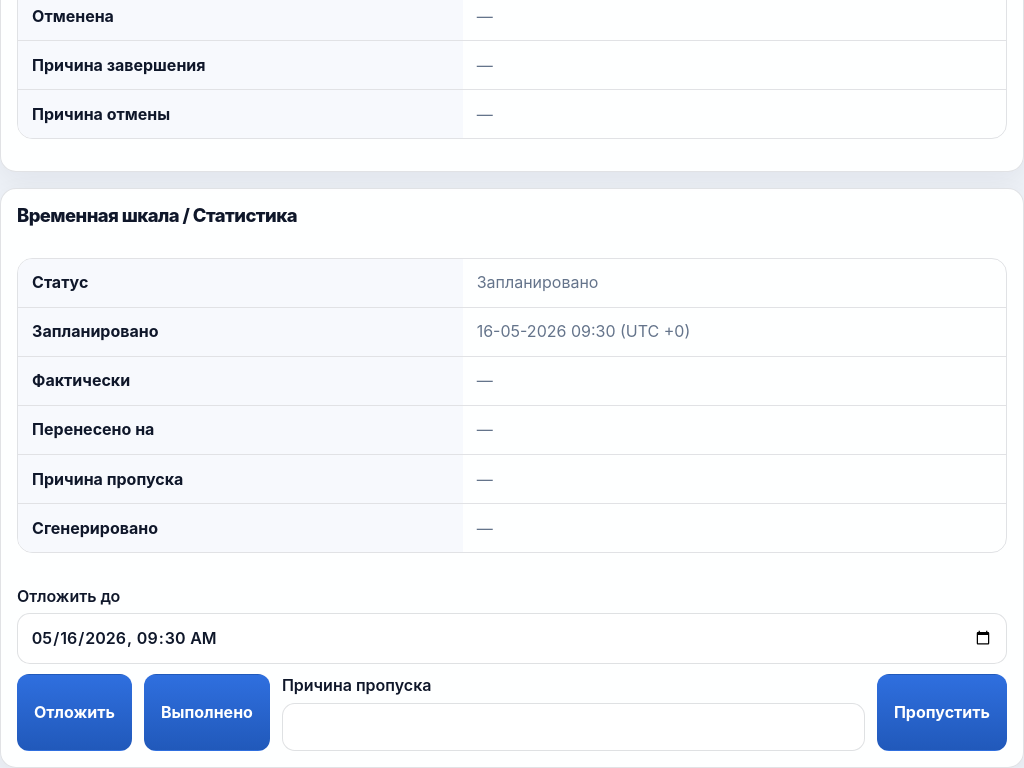
it: TaskDetail › updates occurrence state from the transition response instead of keeping stale navigation state
The width and height of the screenshot is (1024, 768).
(page scrolled)
expect the button "Отложить" is shown: met, box [17,674,132,751]
Click the button "Выполнено".
click(207, 712)  # box [144,674,270,751]
(page scrolled)
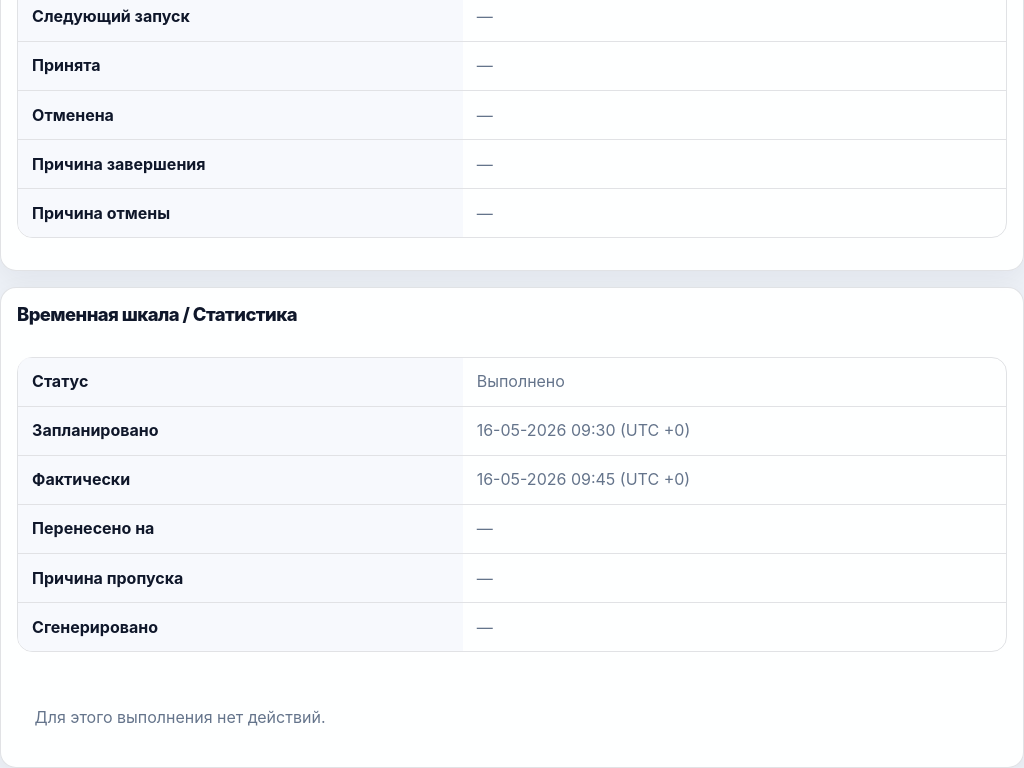
expect the text "Выполнено" is shown: met, box [477,371,565,391]
expect the text "16-05-2026 09:45 (UTC +0)" is shown: met, box [477,469,690,489]
